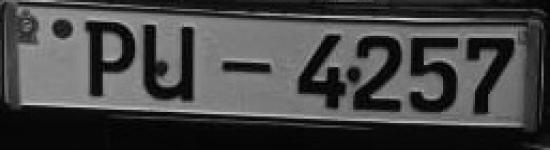-: (216, 49, 277, 84)
2: (351, 28, 408, 116)
4: (284, 24, 352, 113)
5: (407, 32, 463, 118)
7: (463, 30, 519, 119)
P: (80, 17, 140, 103)
U: (138, 19, 201, 109)
